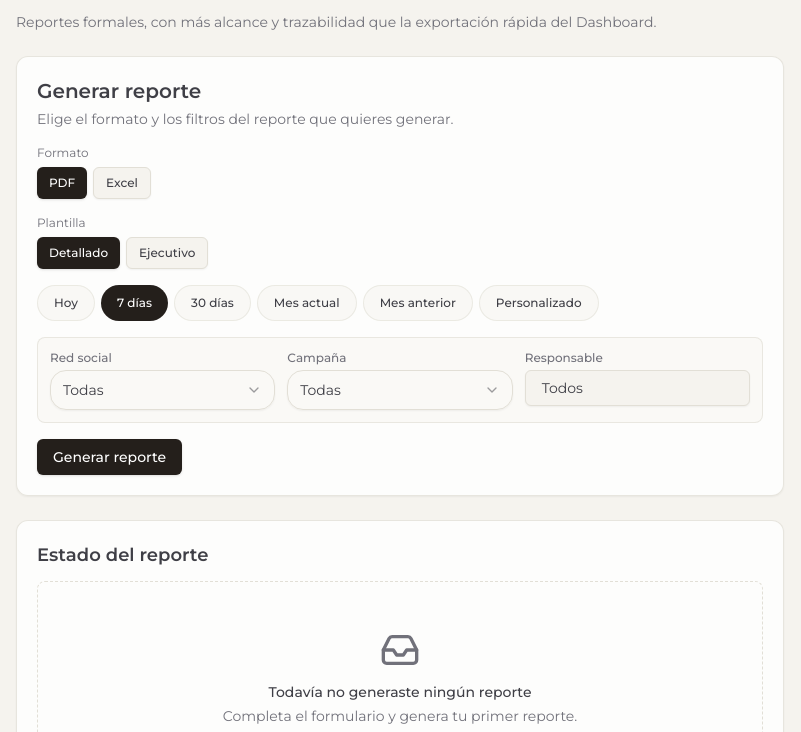
it: ReportesPage — generar reporte › el toggle de plantilla solo aparece con formato PDF
This screenshot has width=801, height=732.
expect the text "Todavía no generaste ningún reporte" is shown: met, box [268,683,531,701]
expect the element named "Plantilla del reporte" is shown: met, box [37,237,208,269]
Click the button "Excel" at (122, 183), box [93,167,151,199]
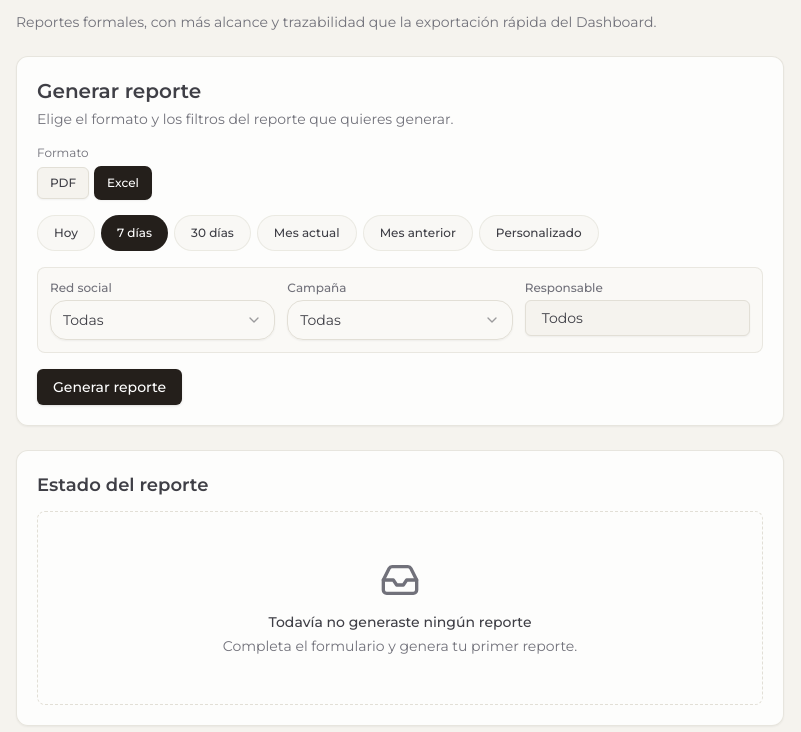
Click the button "PDF" at (63, 183), box [37,167,89,199]
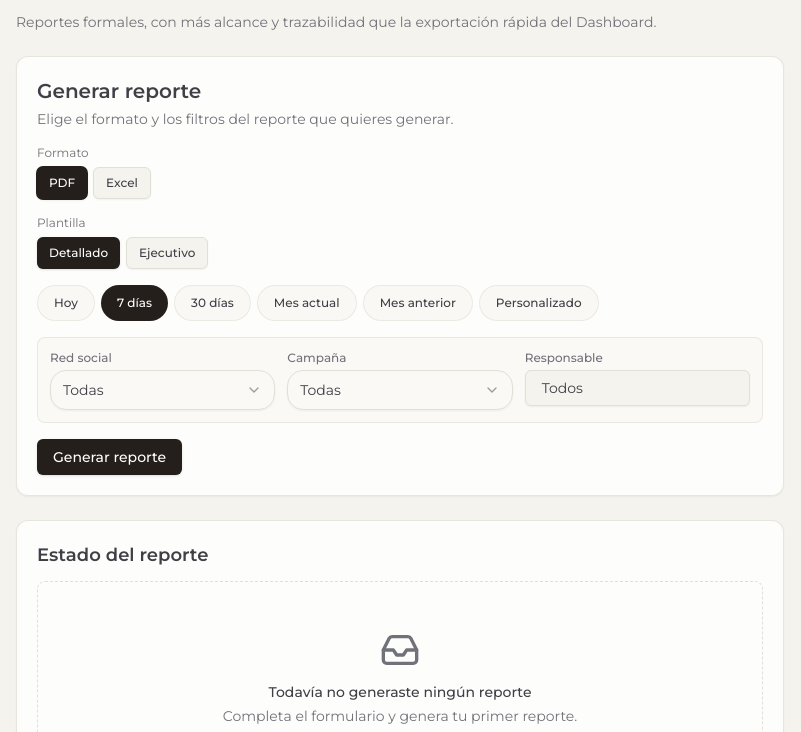
expect the element named "Plantilla del reporte" is shown: met, box [37,237,208,269]
